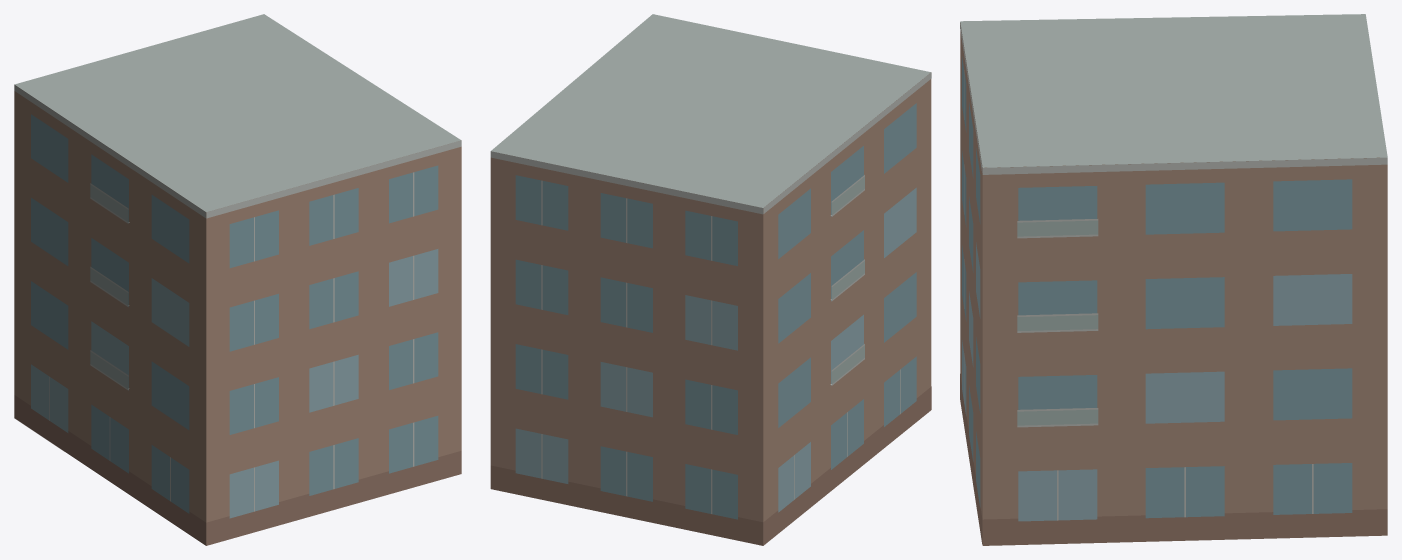
Rendered from survey-upis-32743989.glb.
The picture shows the model from 3 angles, left to right: view 1: azimuth 30°, elevation 25°; view 2: azimuth 150°, elevation 25°; view 3: azimuth 270°, elevation 25°; orthographic projection. The views are drawn at different scales.
Visible parts, largest first — view 1: survey-upis-32743989.tmp; view 2: survey-upis-32743989.tmp; view 3: survey-upis-32743989.tmp.
Boxes of the visible parts, box(x1,y1,x2,y2) form: survey-upis-32743989.tmp: box(14, 14, 461, 545); survey-upis-32743989.tmp: box(490, 14, 931, 545); survey-upis-32743989.tmp: box(960, 14, 1387, 545).
Bounding box in the file's own units: 11.27 × 12.9 × 13.23.
